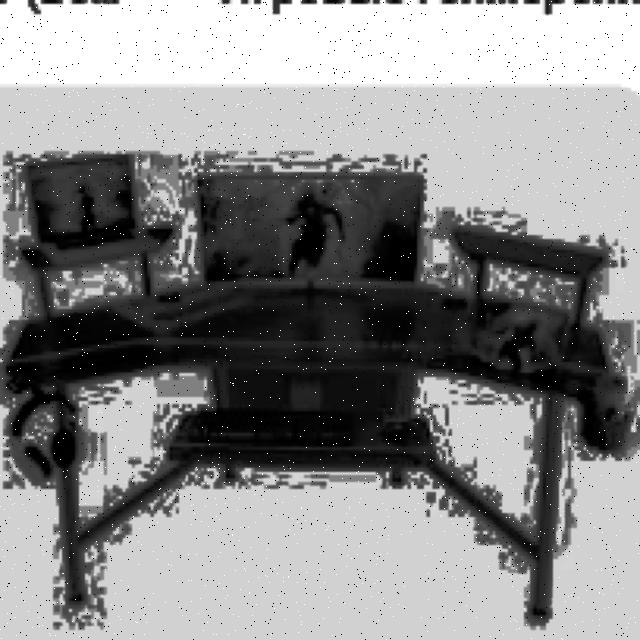table: (3, 274, 628, 616)
